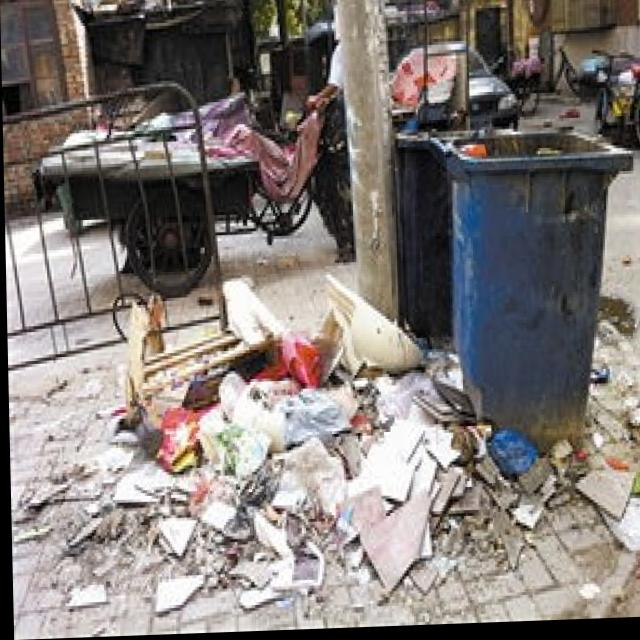garbage: (107, 269, 424, 504)
garbage_bin: (426, 124, 635, 454), (394, 132, 450, 342)
